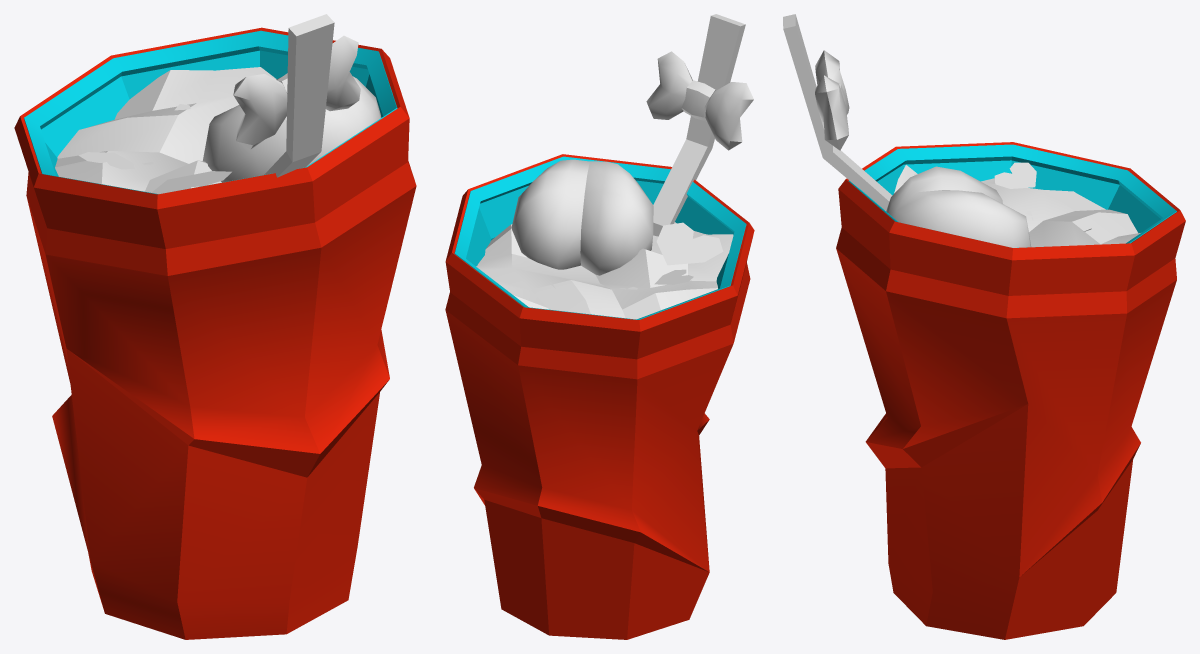
File: SM_Drink_Fiak.fbx
The picture shows the model from 3 angles, left to right: view 1: azimuth 30°, elevation 25°; view 2: azimuth 150°, elevation 25°; view 3: azimuth 270°, elevation 25°; orthographic projection. The views are drawn at different scales.
Visible parts, largest first — view 1: SM_Glass_Fiak, SM_FiakToppings, SM_RedGlassTop; view 2: SM_Glass_Fiak, SM_FiakToppings, SM_RedGlassTop; view 3: SM_Glass_Fiak, SM_FiakToppings, SM_RedGlassTop.
Part boxes in pixels (x1,y1,x2,y2): SM_Glass_Fiak: (14,27,416,639); SM_FiakToppings: (78,14,381,193); SM_RedGlassTop: (55,67,276,192); SM_Glass_Fiak: (445,154,754,639); SM_FiakToppings: (511,14,753,289); SM_RedGlassTop: (476,222,733,319); SM_Glass_Fiak: (836,142,1185,639); SM_FiakToppings: (783,14,1091,247); SM_RedGlassTop: (894,165,1140,247).
Bounding box in the file's own units: 22.23 × 39.35 × 25.69.
